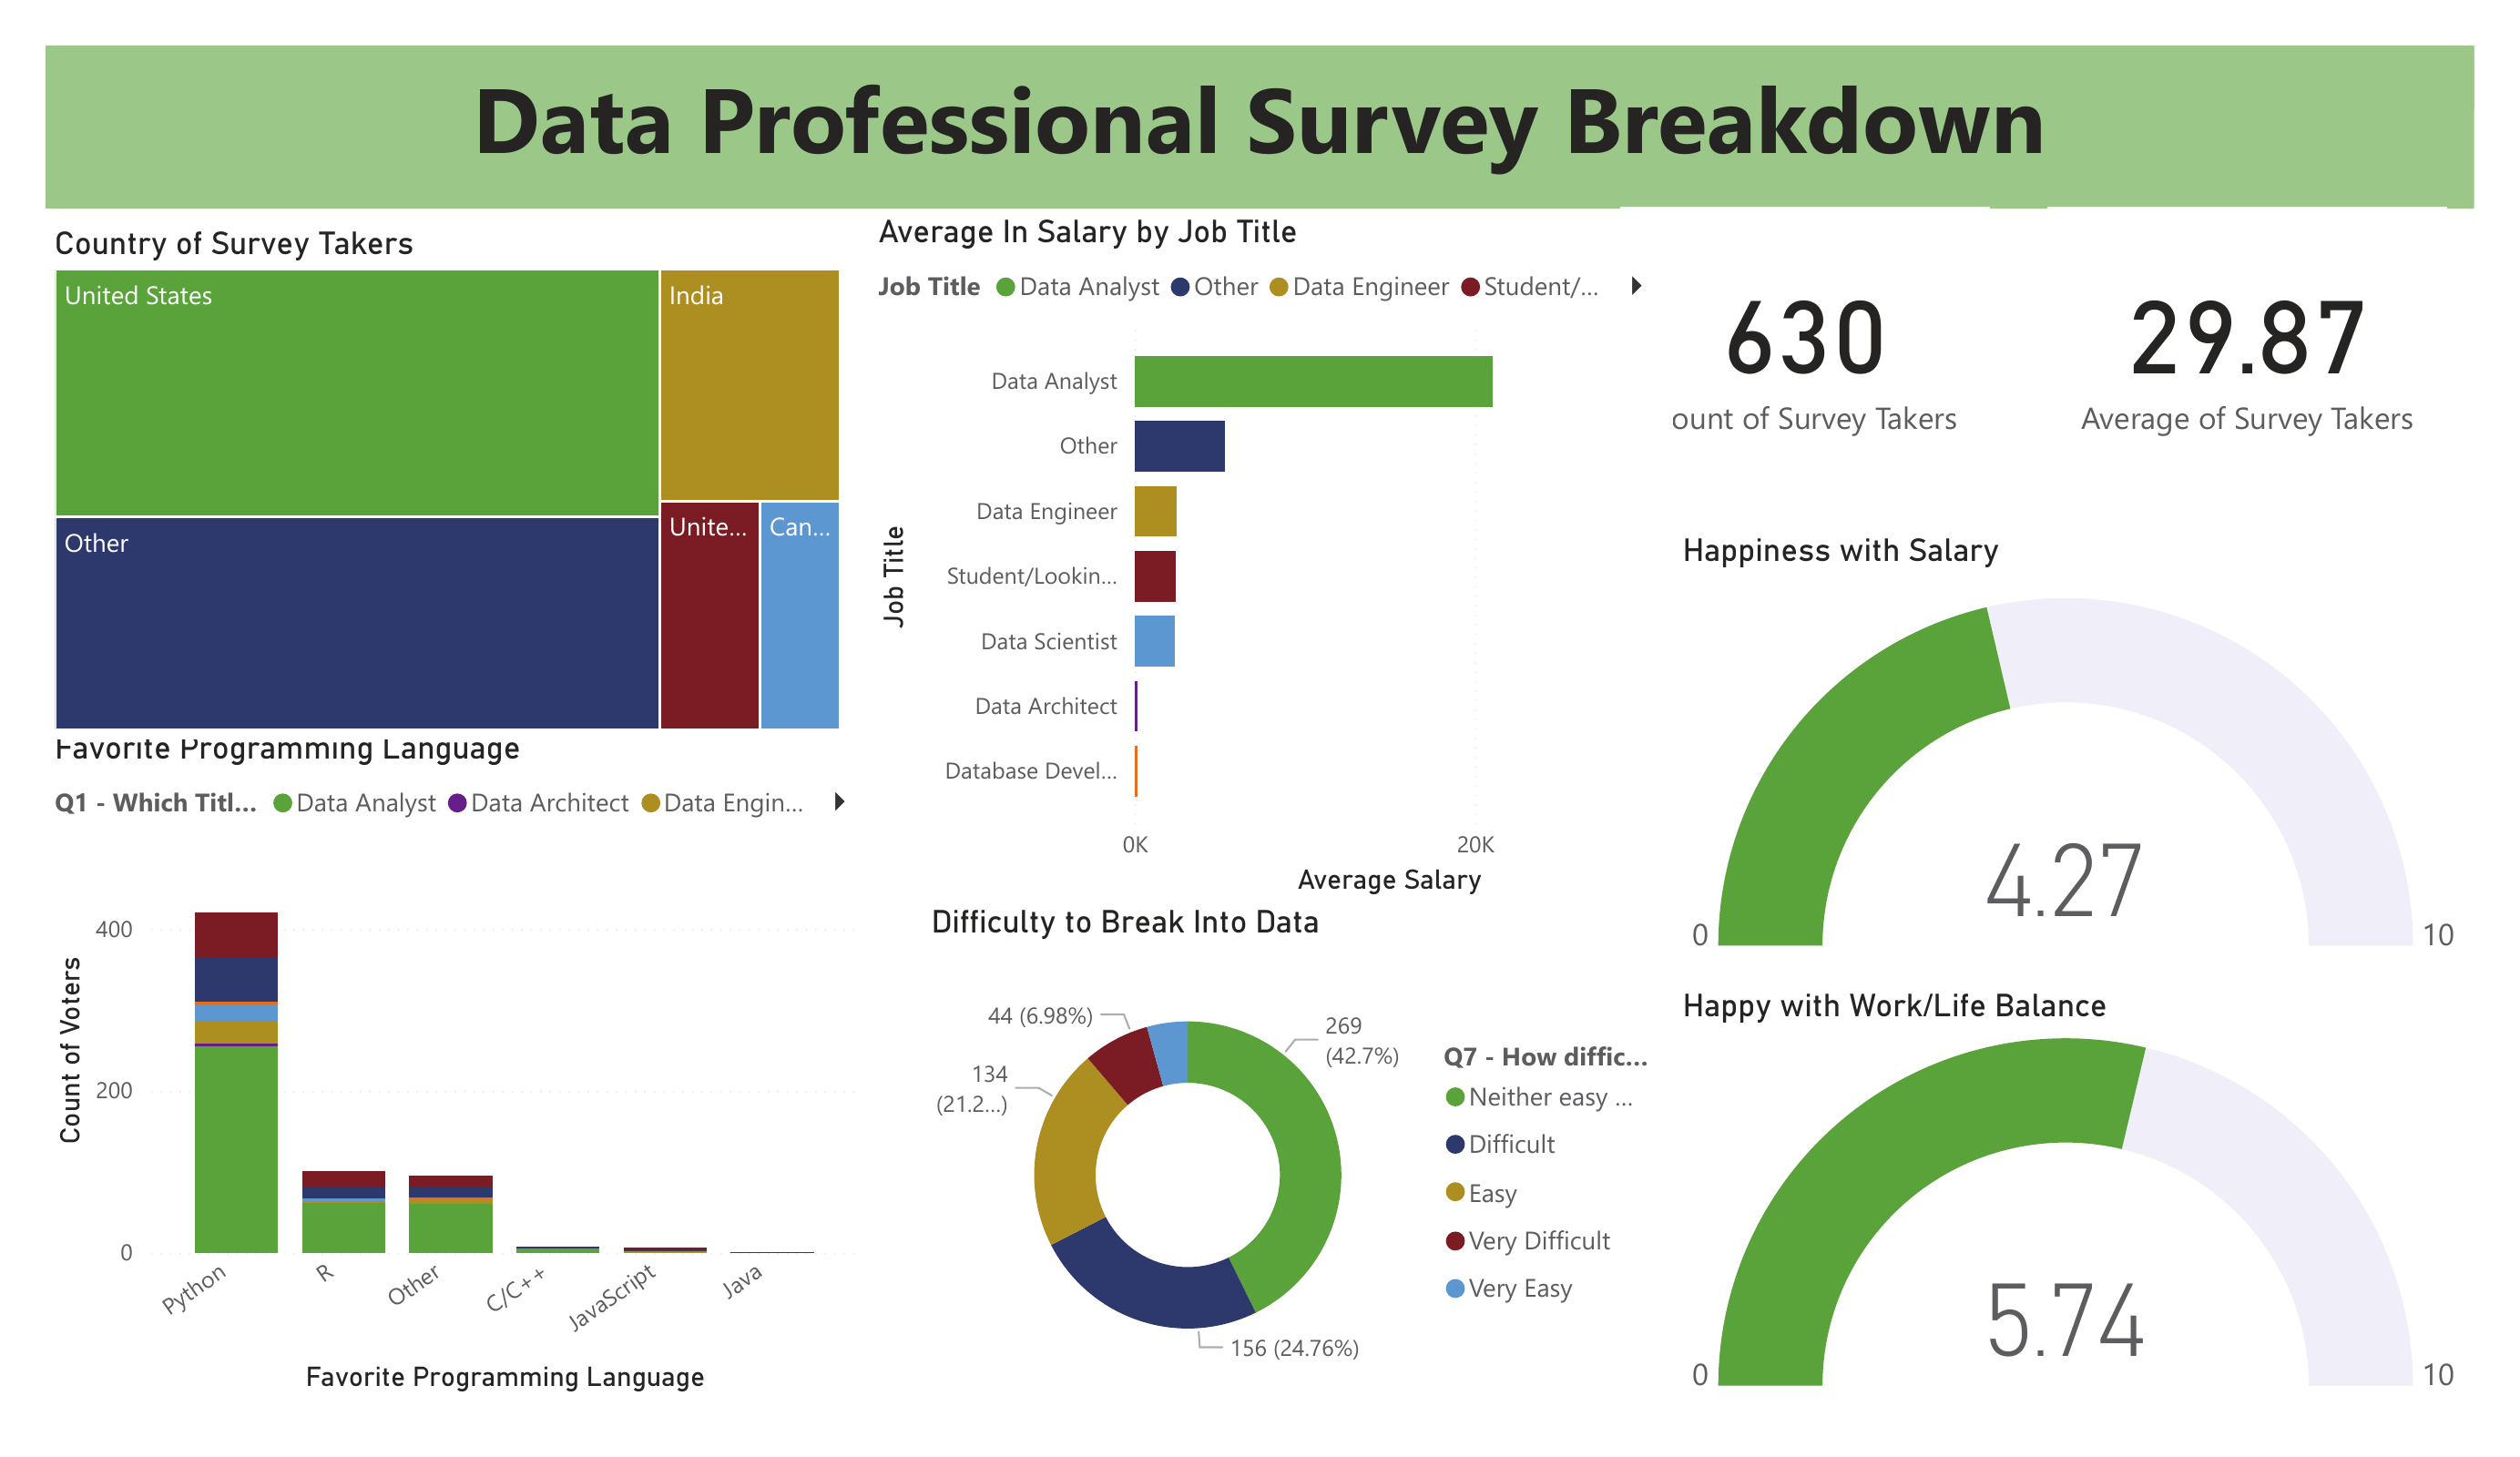

The dashboard page shown, as its layout file describes it:
{"tool":"powerbi","page":{"name":"Page 1","canvas":[1280,720],"ordinal":0},"visuals":[{"type":"textbox","box":[0,0,1280,86],"z":0},{"type":"card","fields":{"Values":["Count(Data Professional Survey.Unique ID)"]},"box":[830,85.5,194.5,144.5],"z":1000},{"type":"card","fields":{"Values":["Avg(Data Professional Survey.Q10 - Current Age)"]},"box":[1054.5,85.5,211.8,144.5],"z":2000},{"type":"barChart","title":"Average In Salary by  Job Title","fields":{"Category":["Data Professional Survey.Q1 - Which Title Best Fits your Current Role?.1"],"Y":["Sum(Data Professional Survey.Average In Salary)"],"Series":["Data Professional Survey.Q1 - Which Title Best Fits your Current Role?.1"]},"box":[434,88,424,364],"z":3000},{"type":"columnChart","title":"Favorite Programming Language","fields":{"Category":["Data Professional Survey.Q5 - Favorite Programming Language.1"],"Y":["CountNonNull(Data Professional Survey.Unique ID)"],"Series":["Data Professional Survey.Q1 - Which Title Best Fits your Current Role?.1"]},"box":[0,360,434,354],"z":4000},{"type":"treemap","title":"Country of Survey Takers","fields":{"Group":["Data Professional Survey.Q11 - Which Country do you live in?.1"],"Values":["CountNonNull(Data Professional Survey.Q11 - Which Country do you live in?.1)"]},"box":[0,94,424,272],"z":5000},{"type":"gauge","title":"Happiness with Salary","fields":{"Y":["Avg(Data Professional Survey.Q6 - How Happy are you in your Current Position with the following? (Salary))"],"MinValue":["Min(Data Professional Survey.Q6 - How Happy are you in your Current Position with the following? (Salary))"],"MaxValue":["Max(Data Professional Survey.Q6 - How Happy are you in your Current Position with the following? (Salary))1"]},"box":[858,256,422,240],"z":6000},{"type":"gauge","title":"Happy with Work/Life Balance","fields":{"Y":["Avg(Data Professional Survey.Q6 - How Happy are you in your Current Position with the following? (Work/Life Balance))"],"MinValue":["Min(Data Professional Survey.Q6 - How Happy are you in your Current Position with the following? (Work/Life Balance))1"],"MaxValue":["Max(Data Professional Survey.Q6 - How Happy are you in your Current Position with the following? (Work/Life Balance))2"]},"box":[858,496,422,224],"z":7000},{"type":"donutChart","title":"Difficulty to Break Into Data","fields":{"Category":["Data Professional Survey.Q7 - How difficult was it for you to break into Data?"],"Y":["CountNonNull(Data Professional Survey.Q7 - How difficult was it for you to break into Data?)"]},"box":[462,452,396,268],"z":8000}]}

Visuals, with their boxes in screenshot pixels (x1, y1, x2, y2):
textbox: crop(46, 46, 2474, 209)
card - Count(Data Professional Survey.Unique ID): crop(1620, 208, 1990, 482)
card - Avg(Data Professional Survey.Q10 - Current Age): crop(2046, 208, 2448, 482)
"Average In Salary by  Job Title" barChart: crop(869, 212, 1674, 903)
"Favorite Programming Language" columnChart: crop(46, 728, 869, 1401)
"Country of Survey Takers" treemap: crop(46, 224, 850, 739)
"Happiness with Salary" gauge: crop(1674, 531, 2474, 986)
"Happy with Work/Life Balance" gauge: crop(1674, 986, 2474, 1411)
"Difficulty to Break Into Data" donutChart: crop(923, 903, 1674, 1411)
